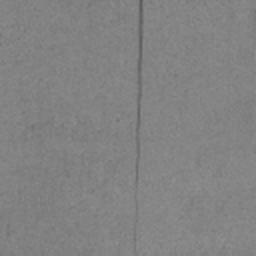Scratches: (135, 0, 144, 185)
